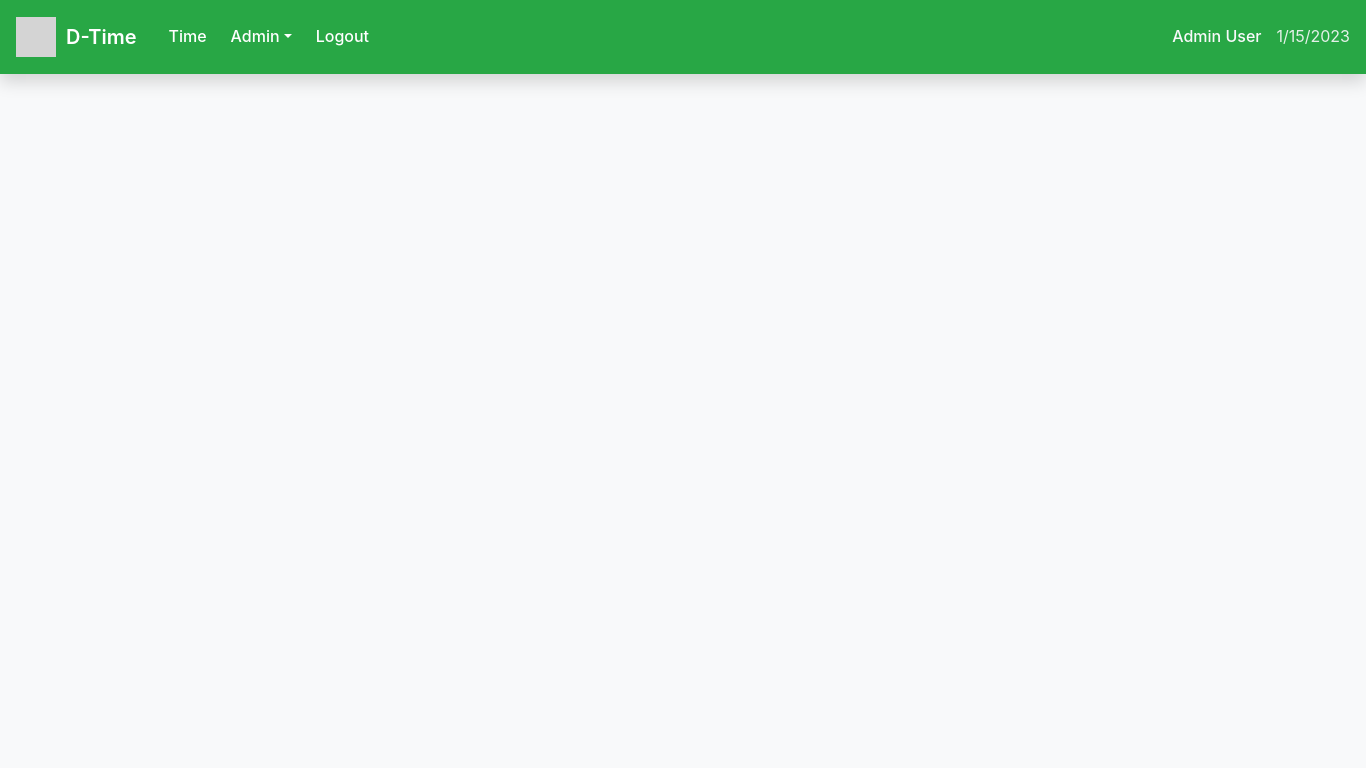
NavigationMenu › Edge cases and error handling › should handle admin property as truthy values
This screenshot has width=1366, height=768.
// Should render admin menu - need to click dropdown to see items
What coordinates should you click on to do the following:
click the button "Admin"
I would click on:
 (261, 37)
Its box is [223,16,300,58].
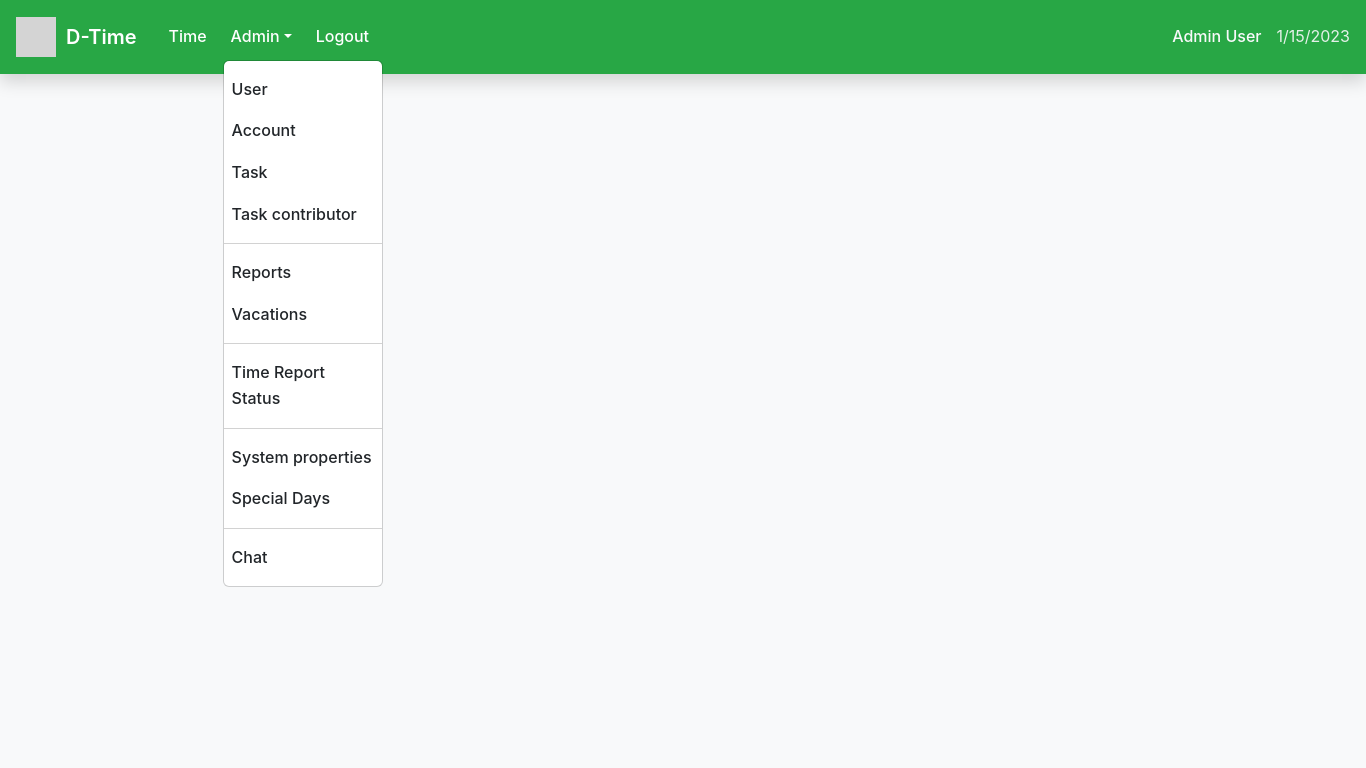
Now the link "User" is shown, box [232,79,268,99]
Now the link "Account" is shown, box [232,120,296,140]
